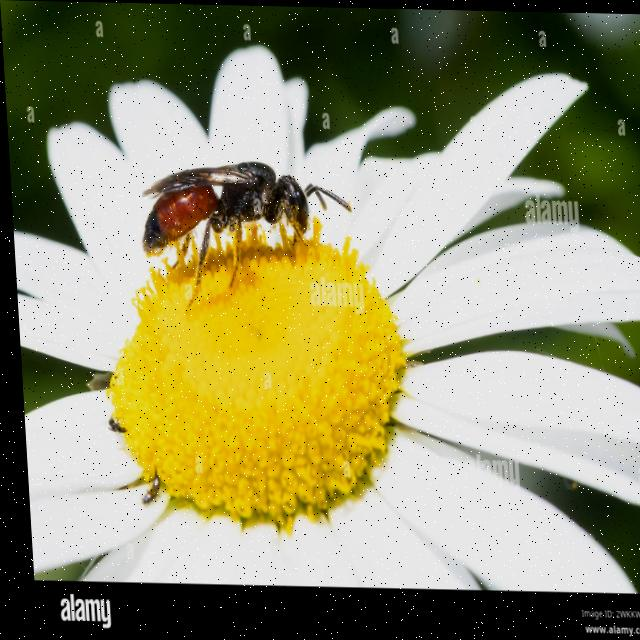Allodapula: (130, 146, 357, 313)
